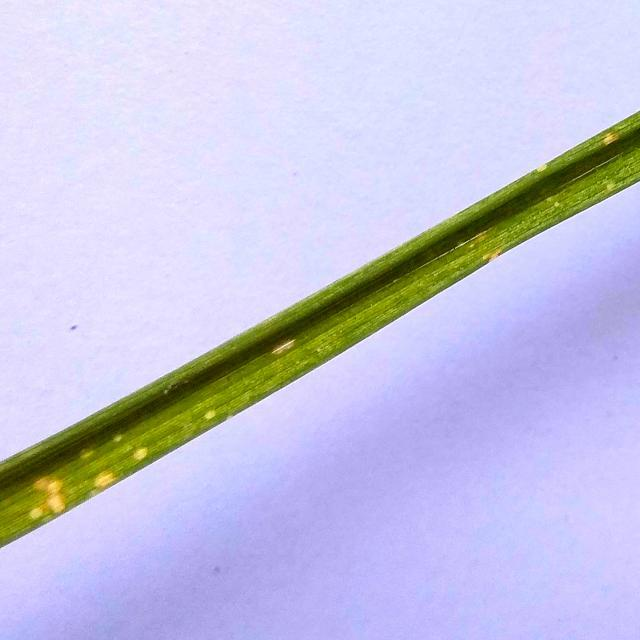Blast: (22, 479, 76, 513), (273, 336, 302, 354), (96, 471, 124, 485), (132, 445, 151, 462), (78, 445, 98, 460), (600, 132, 620, 145), (202, 406, 220, 420), (114, 428, 124, 447), (536, 166, 550, 171)
